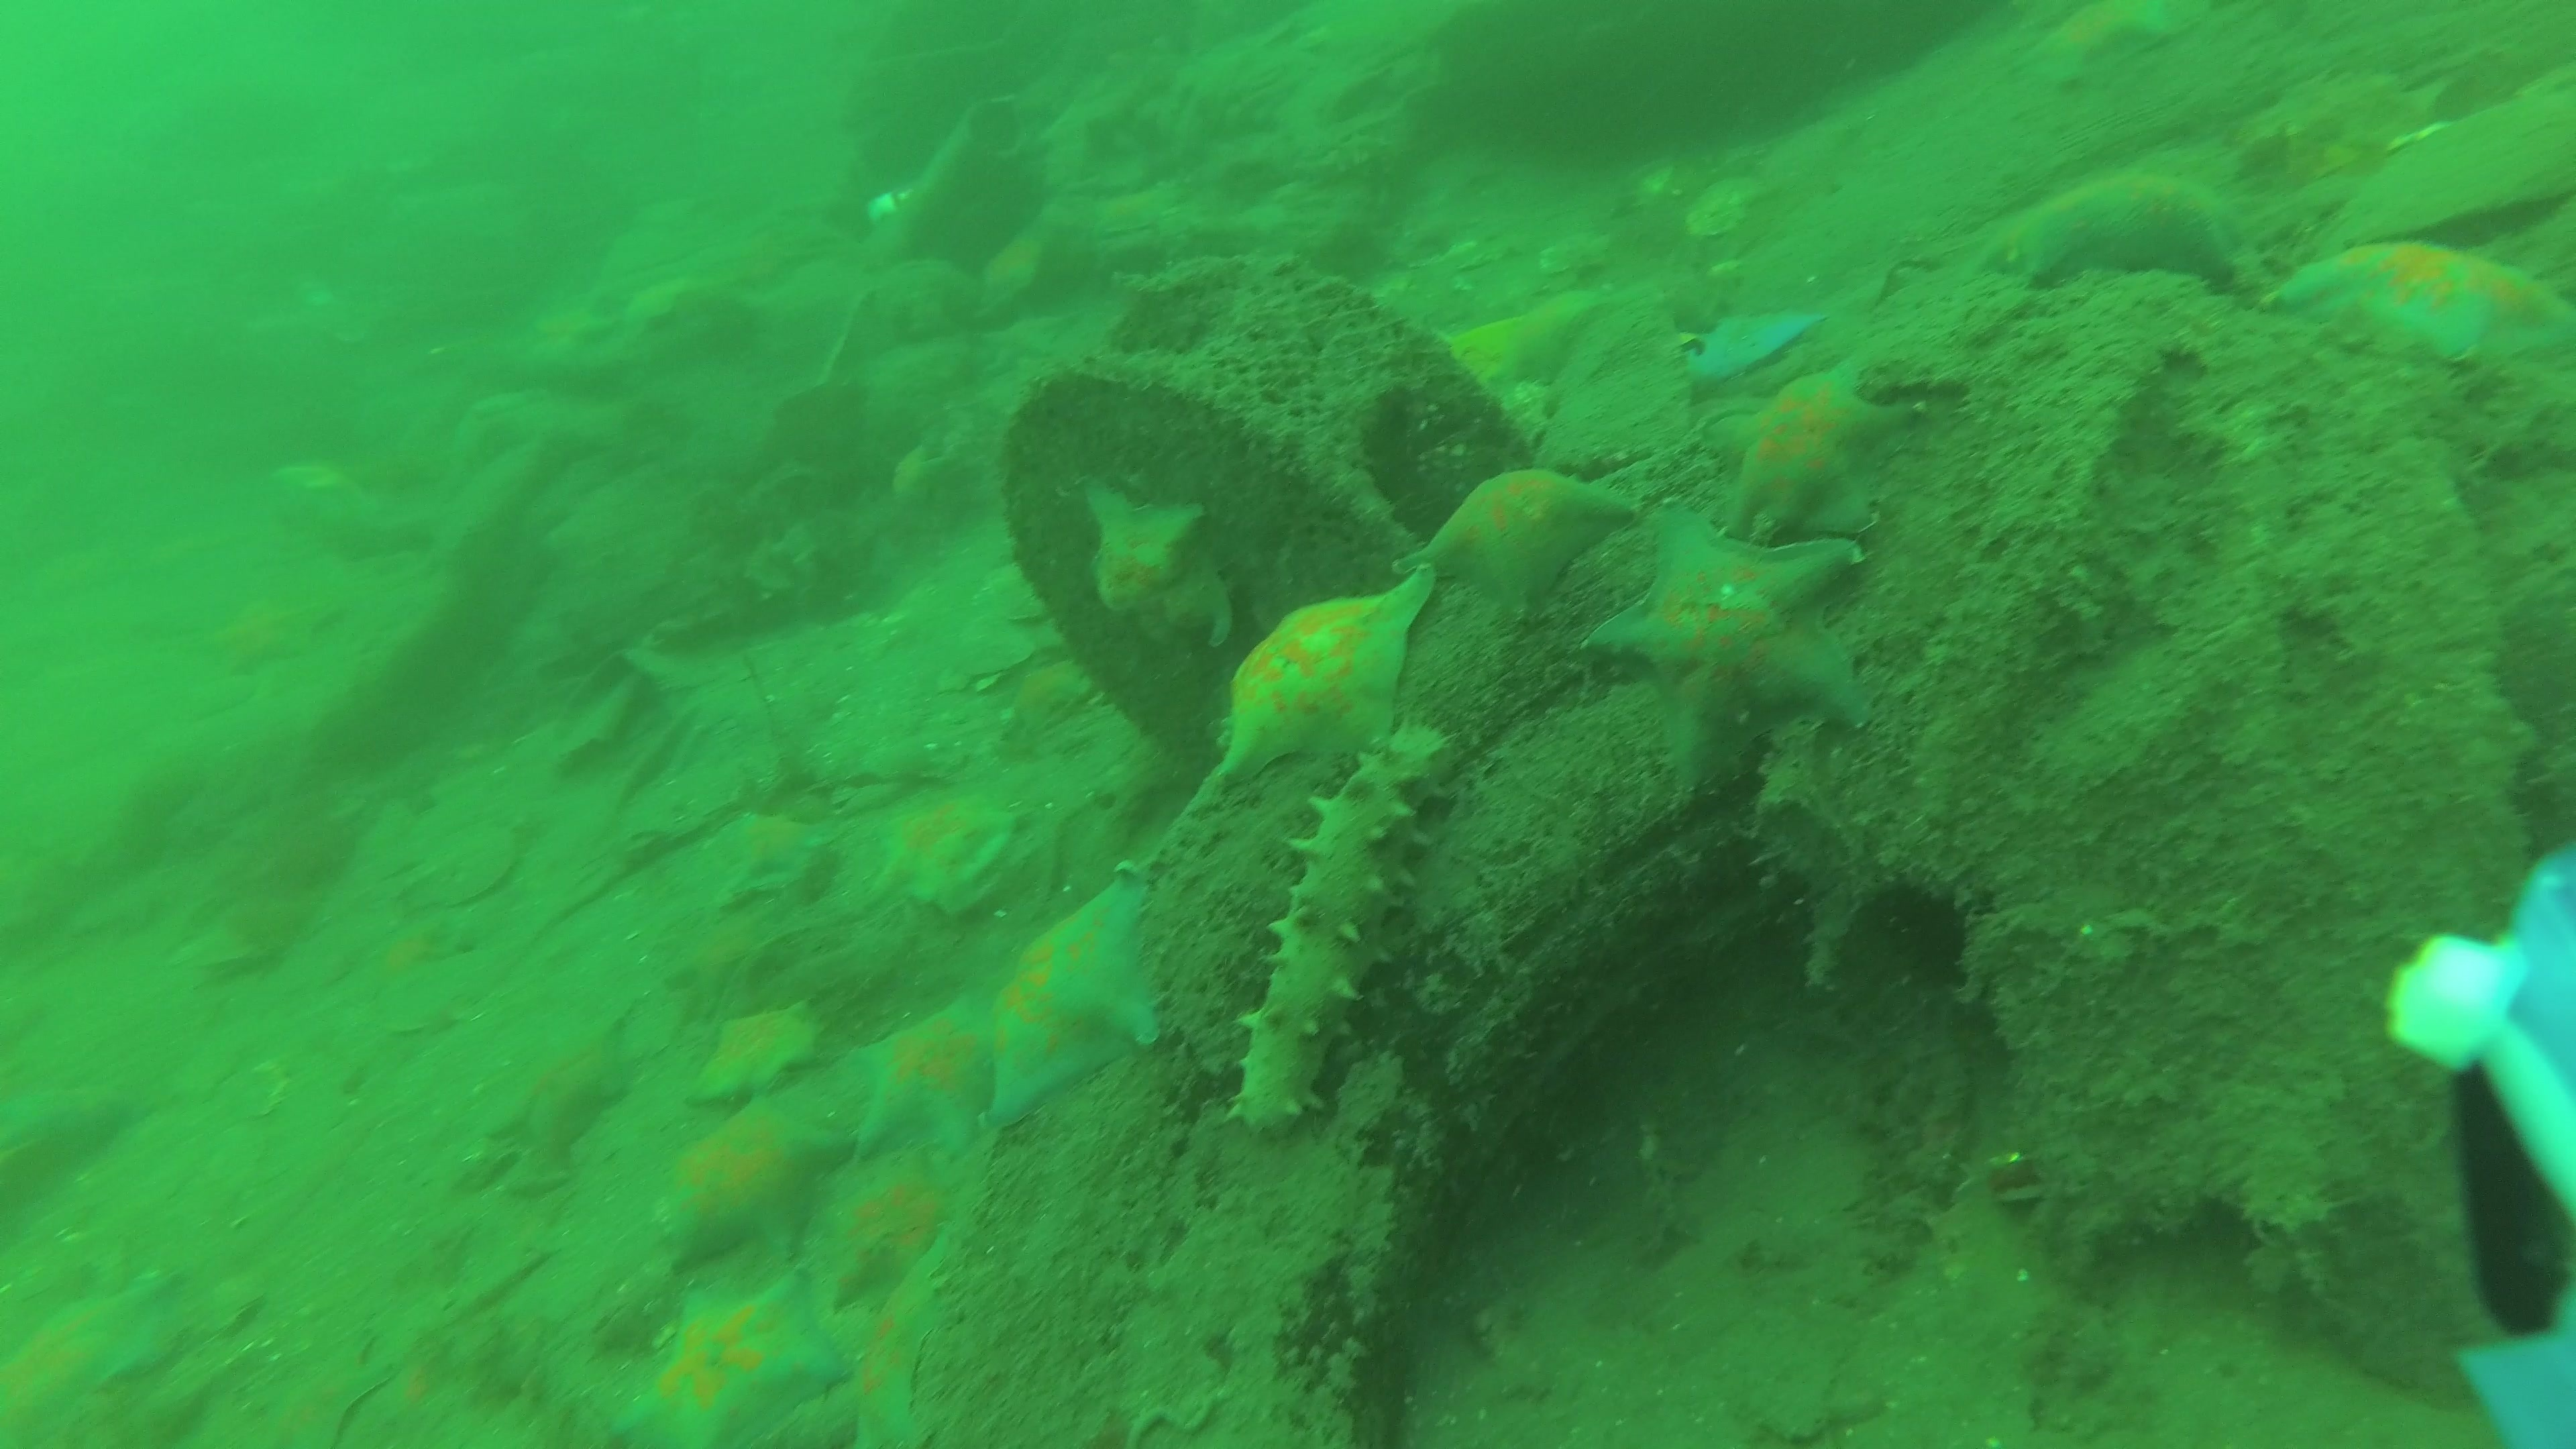holothurian: (1224, 720, 1463, 1134)
scallop: (389, 826, 517, 911), (1684, 175, 1769, 237), (1536, 234, 1615, 274)
starfish: (1585, 490, 1861, 741), (1182, 554, 1435, 819), (993, 863, 1157, 1146), (2259, 237, 2576, 370), (1709, 356, 1918, 547), (609, 1276, 839, 1449), (660, 1093, 860, 1272), (1982, 177, 2270, 294), (453, 1021, 640, 1200), (1428, 465, 1647, 609), (5, 1267, 175, 1449), (1067, 478, 1237, 646), (847, 996, 991, 1180), (0, 1092, 145, 1272), (846, 1226, 948, 1449), (816, 1155, 931, 1315), (258, 1330, 412, 1449), (1444, 287, 1599, 402), (872, 794, 1024, 911), (2015, 4, 2185, 87), (679, 1010, 824, 1102), (724, 805, 849, 902), (219, 587, 363, 662), (1003, 662, 1093, 745)
